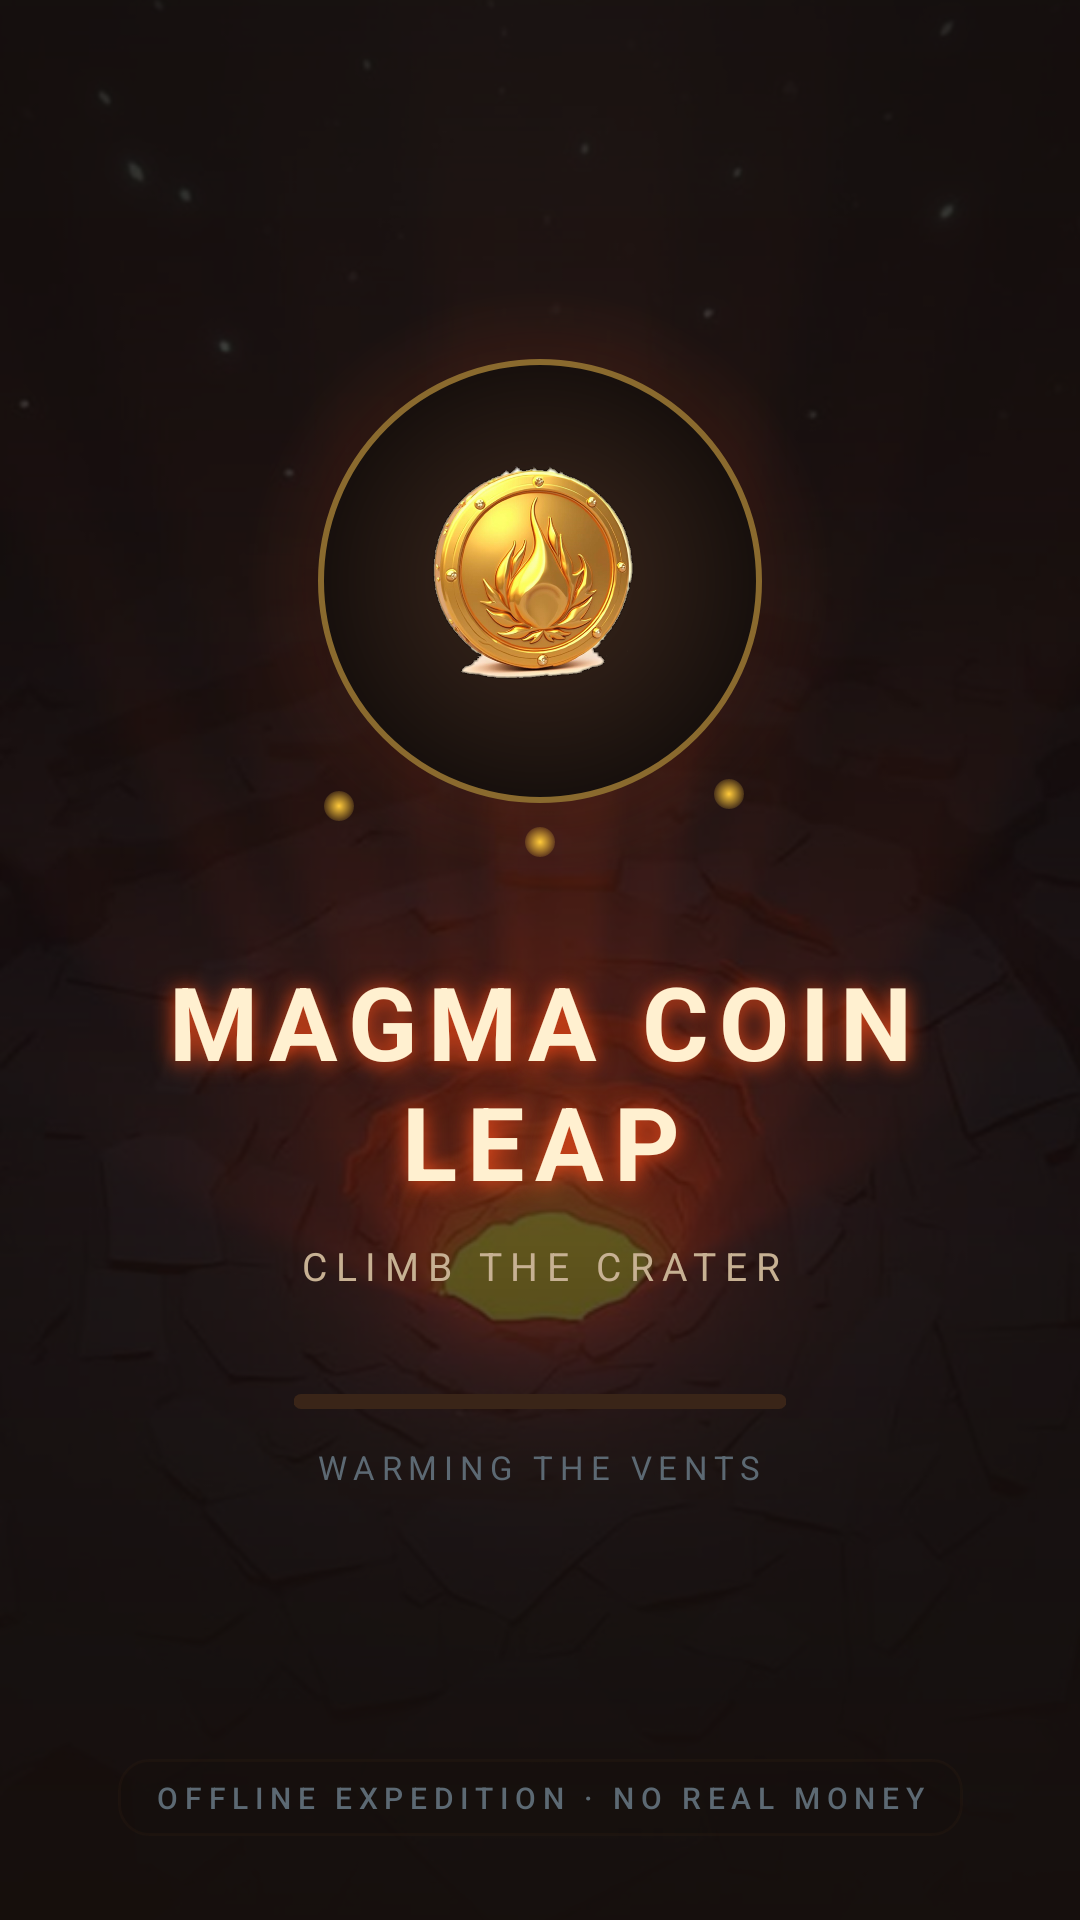

Named icons in this screenshot (1080 x 1920) and their centers, (x,y):
Ember token: (533,572)
